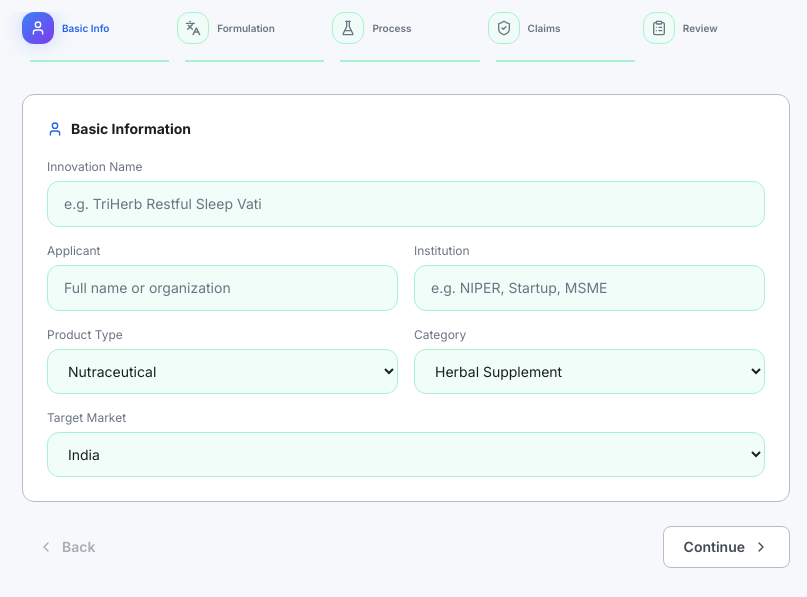
it: InnovationPassportForm claim firewall › firewall flags explicit therapeutic claims
Click the button "Continue": click(726, 547) [663,526,790,568]
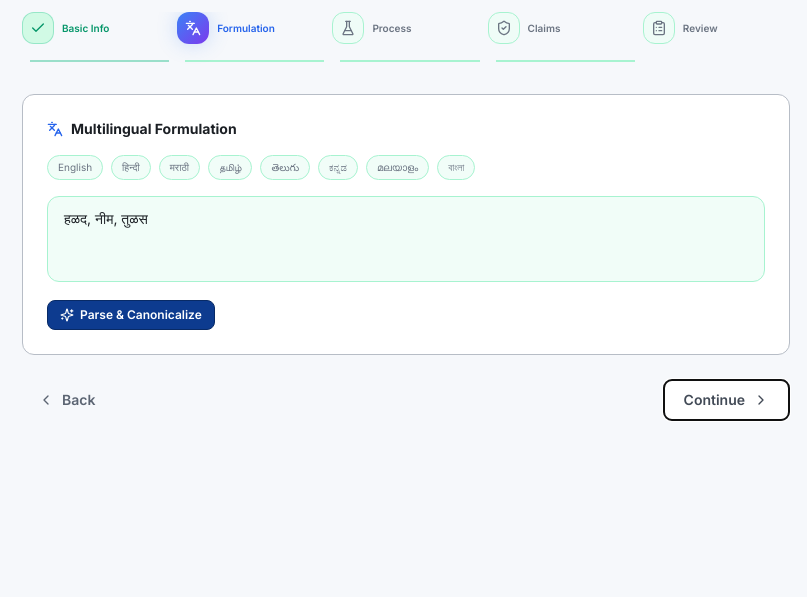
Click the button "Continue": click(726, 400) [663,379,790,421]
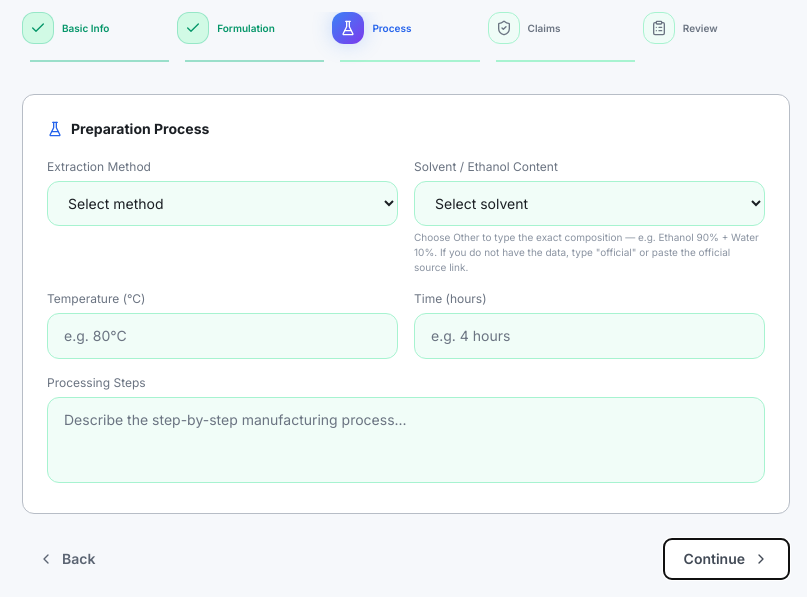
Click the button "Continue": click(726, 559) [663,538,790,580]
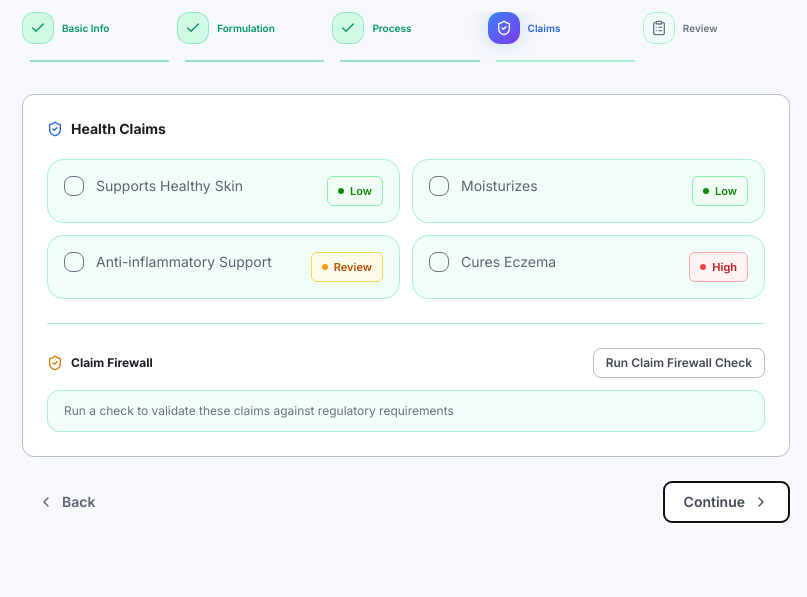
Click the button "Cures Eczema High": click(509, 262) [412,235,765,299]
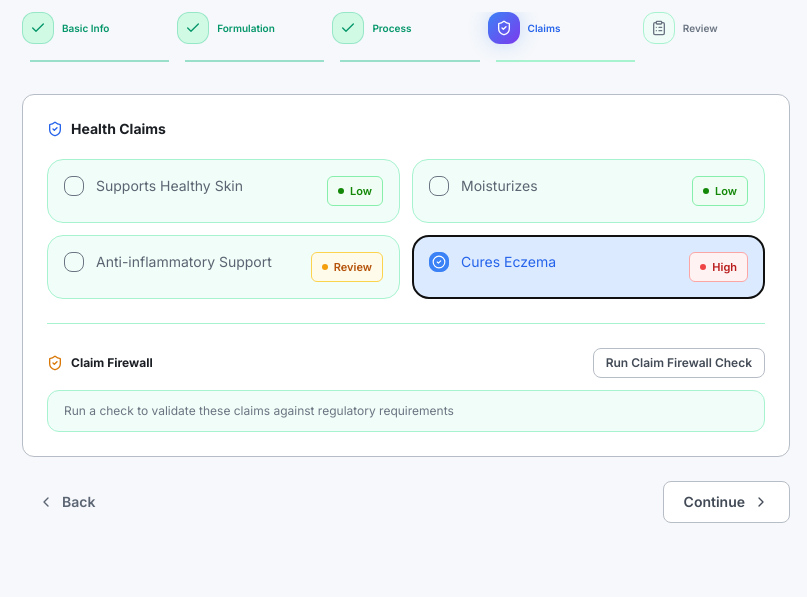
Click the button "Run Claim Firewall Check": click(679, 363) [593,348,765,378]
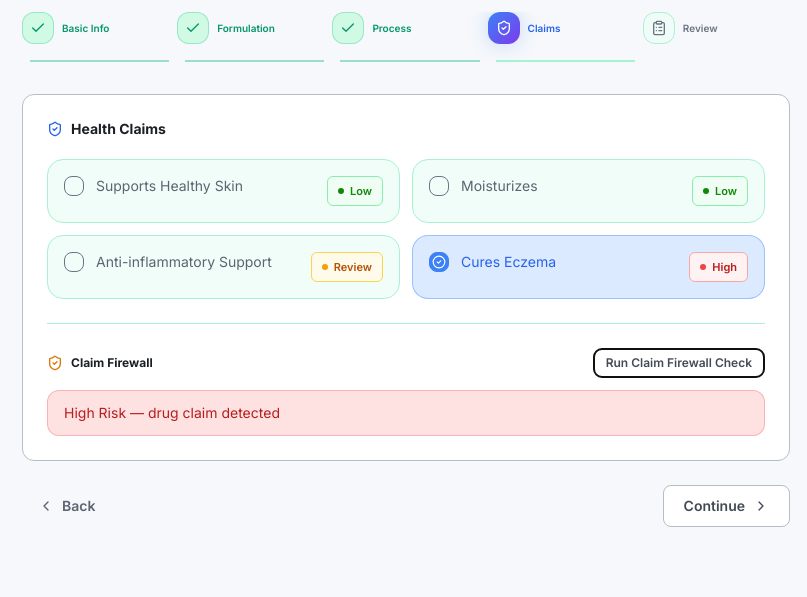
Expected: the text "High Risk — drug claim detected" is shown, [47,390,765,436]
